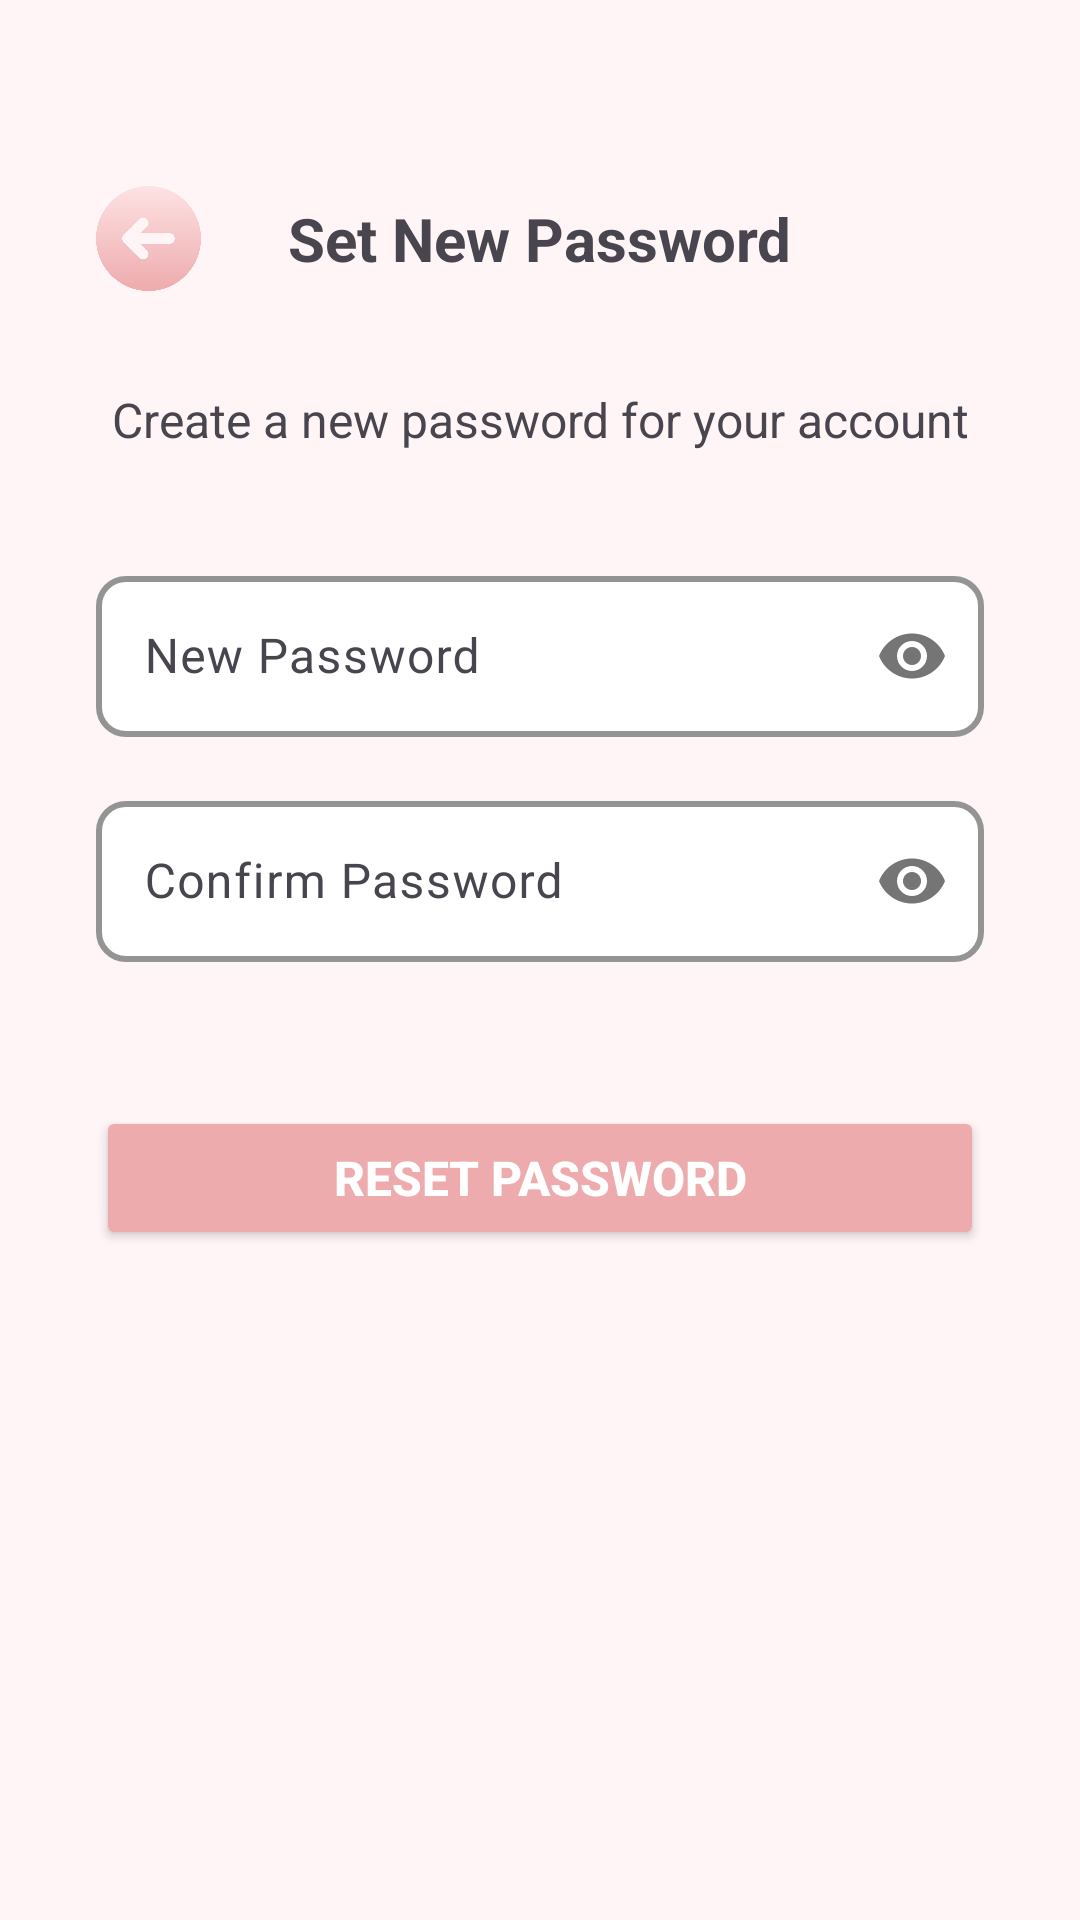

Named icons in this screenshot (1080px×1920px) and their bounding boxes, detection(x1, y1, x2, y2):
Back to previous screen: detection(96, 195, 201, 291)
